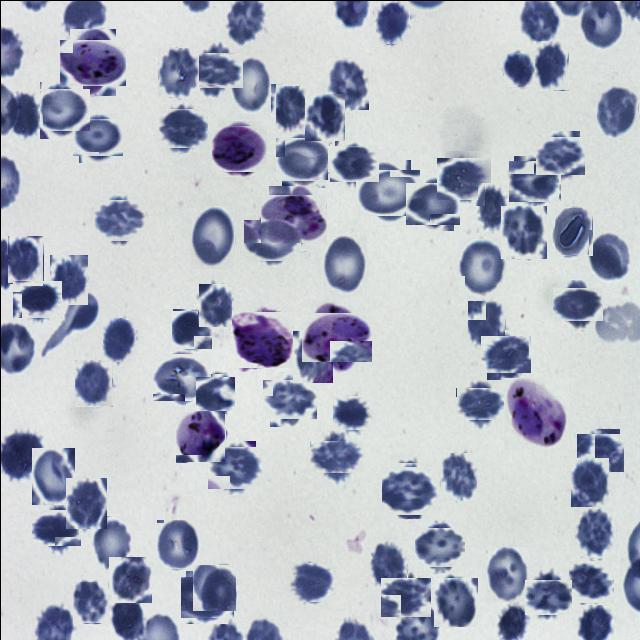difficult: (503, 377, 568, 449), (306, 307, 366, 367), (213, 122, 264, 174)
gametocyte: (232, 308, 292, 368)
red blood cell: (360, 164, 414, 219), (458, 238, 507, 296), (190, 205, 234, 269), (155, 350, 208, 403), (320, 233, 366, 294), (383, 464, 435, 516), (485, 546, 530, 602), (278, 134, 328, 184), (36, 84, 86, 134), (246, 214, 296, 264), (31, 447, 74, 504), (500, 205, 546, 258), (228, 55, 270, 113), (408, 178, 456, 226), (439, 154, 487, 202), (210, 443, 258, 491), (90, 515, 132, 569), (182, 573, 230, 620), (510, 158, 558, 205), (433, 576, 478, 626), (325, 57, 368, 109), (596, 85, 638, 138), (95, 196, 142, 242), (266, 375, 312, 422), (156, 519, 200, 568), (588, 229, 630, 280), (191, 47, 237, 93), (416, 524, 462, 570), (382, 574, 428, 620), (574, 508, 616, 558), (157, 47, 199, 97), (65, 477, 106, 528), (292, 330, 332, 382), (192, 564, 236, 611), (270, 83, 310, 134), (108, 556, 151, 602), (75, 115, 119, 159), (160, 106, 204, 150), (330, 142, 374, 186), (289, 560, 333, 604), (483, 332, 527, 376), (538, 133, 582, 177), (569, 559, 613, 603), (49, 254, 87, 304), (578, 430, 622, 473), (370, 541, 407, 592), (304, 93, 344, 140), (467, 300, 505, 349), (570, 457, 608, 506), (314, 435, 357, 478), (15, 277, 58, 320), (34, 506, 78, 548), (6, 90, 42, 141), (554, 207, 592, 255), (458, 382, 501, 424), (532, 40, 568, 90), (74, 359, 112, 406), (556, 283, 598, 325), (526, 575, 568, 617), (7, 235, 43, 283), (440, 452, 476, 499), (102, 317, 136, 362), (172, 308, 210, 348), (72, 581, 108, 623), (196, 374, 234, 412), (477, 182, 507, 230), (375, 2, 409, 44), (197, 283, 230, 326), (334, 394, 371, 431), (502, 52, 534, 86)
trophozoite: (264, 189, 322, 247), (64, 33, 120, 90), (175, 406, 225, 462)
